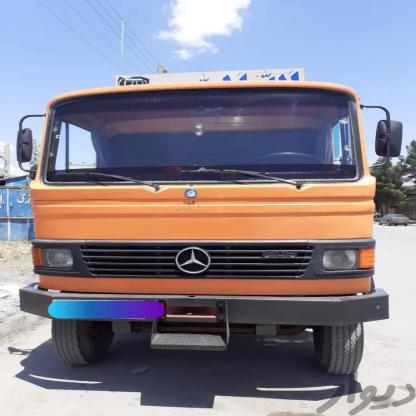Truck: (0, 72, 416, 379)
